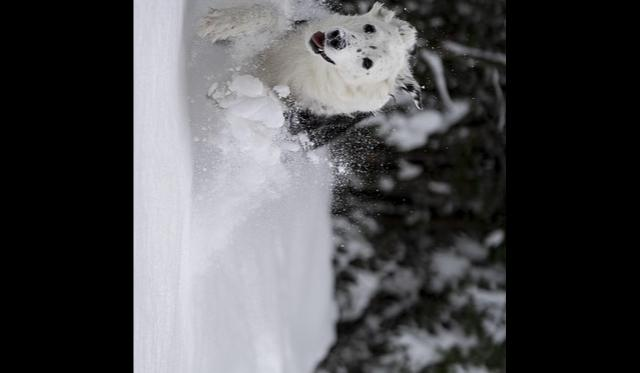Non_Gorille: (178, 0, 463, 234)
